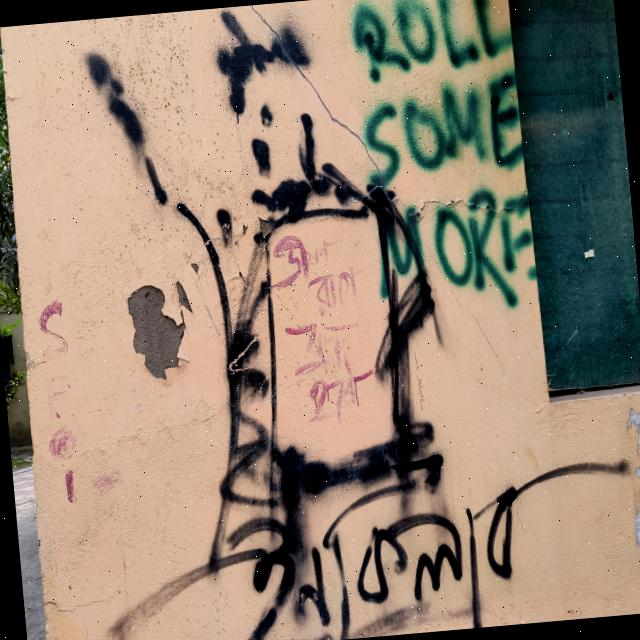Graffiti: (59, 0, 633, 640), (30, 290, 86, 512)
Paint Peeling: (127, 286, 184, 378), (626, 399, 640, 542)
